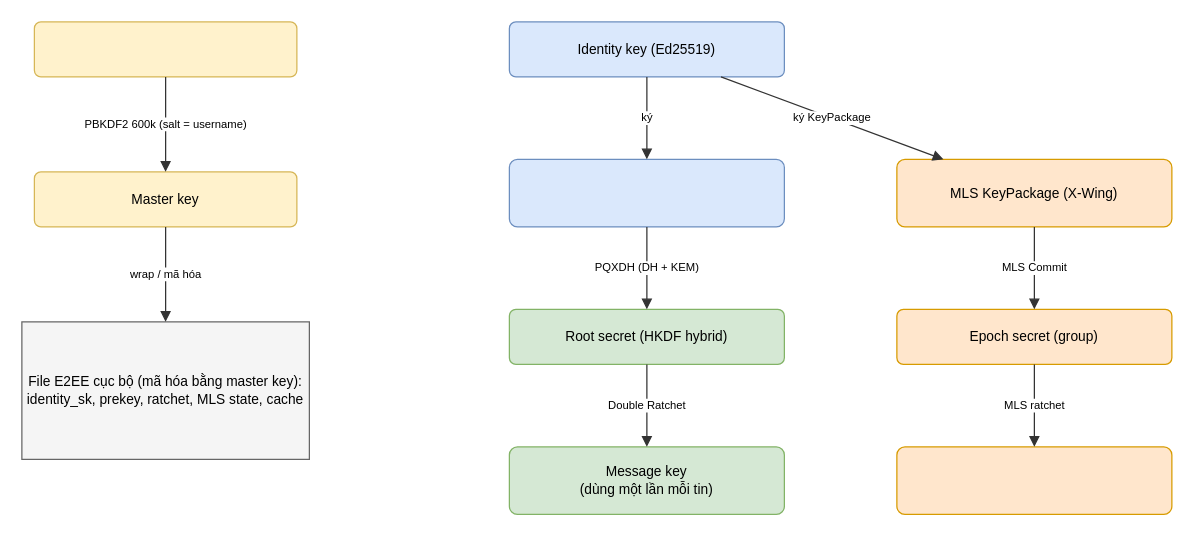
The diagram is 1194 pixels wide and 536 high, and some of its shapes have lost their labels. Here are the shapes that lost their labels. From the top down, the centre of each, then its label:
the point at 165,49: Mật khẩu đăng nhập
the point at 646,192: Signed prekey: X25519 + ML-KEM / Kyber
the point at 1034,480: Application key group (mỗi tin)
